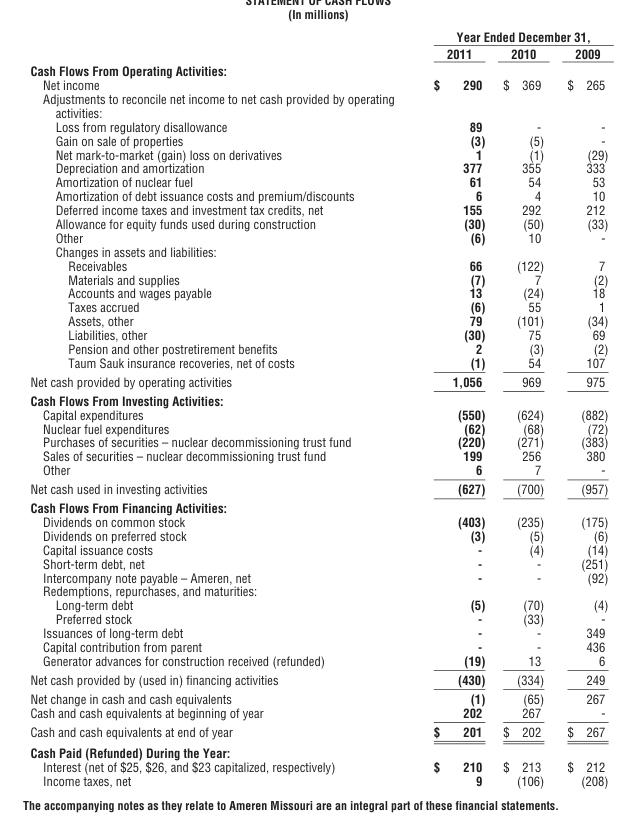table: (29, 28, 607, 787)
table column: (29, 28, 393, 787), (393, 28, 493, 787), (493, 28, 554, 787), (554, 28, 607, 787)
table column header: (29, 28, 607, 61)
table projected row header: (29, 91, 607, 119), (29, 741, 607, 759), (29, 390, 607, 407), (29, 497, 607, 514), (29, 61, 607, 77), (29, 244, 607, 258), (29, 583, 607, 597)
table row: (29, 91, 607, 119), (29, 721, 607, 741), (29, 371, 607, 390), (29, 478, 607, 497), (29, 669, 607, 688), (29, 741, 607, 759), (29, 44, 607, 61), (29, 390, 607, 407), (29, 497, 607, 514), (29, 688, 607, 705), (29, 28, 607, 44), (29, 61, 607, 77), (29, 355, 607, 371), (29, 462, 607, 478), (29, 653, 607, 669), (29, 705, 607, 721), (29, 77, 607, 91), (29, 119, 607, 133), (29, 146, 607, 160), (29, 160, 607, 174), (29, 174, 607, 188), (29, 188, 607, 202), (29, 202, 607, 216), (29, 216, 607, 230), (29, 230, 607, 244), (29, 244, 607, 258), (29, 271, 607, 285), (29, 285, 607, 299), (29, 299, 607, 313), (29, 313, 607, 327), (29, 327, 607, 341), (29, 341, 607, 355), (29, 420, 607, 434), (29, 434, 607, 448), (29, 448, 607, 462), (29, 514, 607, 528), (29, 528, 607, 542), (29, 542, 607, 556), (29, 569, 607, 583), (29, 583, 607, 597), (29, 597, 607, 611), (29, 611, 607, 625), (29, 625, 607, 639), (29, 639, 607, 653), (29, 759, 607, 773), (29, 773, 607, 787), (29, 133, 607, 146), (29, 258, 607, 271), (29, 407, 607, 420), (29, 556, 607, 569)
table spanning cell: (393, 28, 607, 44)
